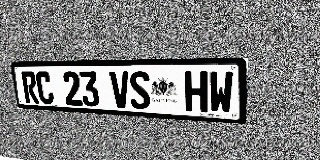2: (62, 71, 83, 106)
3: (79, 71, 100, 107)
C: (35, 71, 55, 104)
H: (184, 71, 208, 113)
R: (21, 71, 40, 104)
S: (129, 71, 151, 110)
V: (109, 71, 131, 109)
W: (209, 71, 234, 114)
